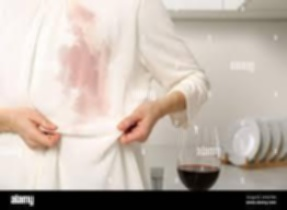wine: (59, 34, 113, 119), (65, 4, 96, 34)
